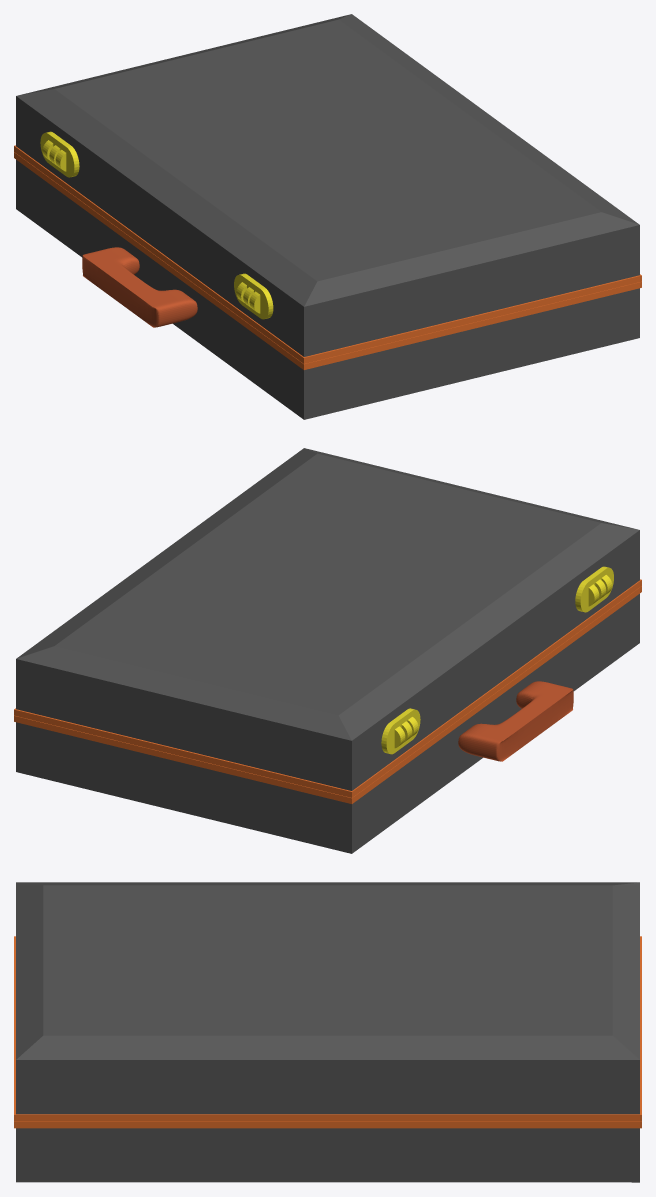
Rendered from BreifCaseFinal.fbx.
3 views of the same model, one above another, from view 1: azimuth 30°, elevation 25°; view 2: azimuth 150°, elevation 25°; view 3: azimuth 270°, elevation 25° (orthographic). The views are drawn at different scales.
Visible parts, largest first — view 1: Case, Handle; view 2: Case, Handle; view 3: Case.
Boxes of the visible parts, <box> form: Case: <box>14,14,641,419</box>; Handle: <box>82,247,197,327</box>; Case: <box>14,448,641,853</box>; Handle: <box>458,681,573,761</box>; Case: <box>14,882,641,1182</box>.
Size of the model in its own units: 226 by 75.63 by 299.
